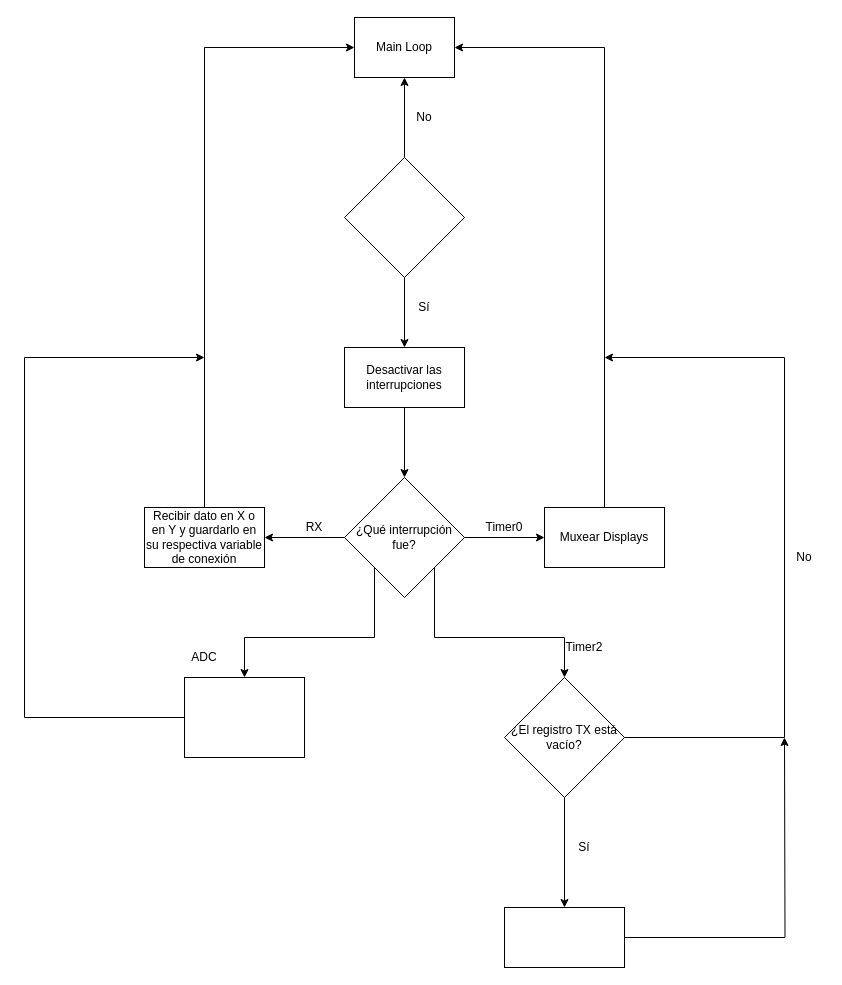
The diagram is 842 pixels wide and 985 high, and some of its shapes have lost their labels. The shapes that lost their labels are listed below. From the top down, each one's box as (x1, y1, x2, y2) in pixels, then its label:
(344, 156, 464, 278): ¿Se activó alguna interrupción?
(184, 676, 304, 758): Leer el canal analógico actual y luego cambiar al siguiente canal
(504, 906, 624, 968): Mandar la coordenada en x, y, una coma o un enter según le corresponda
